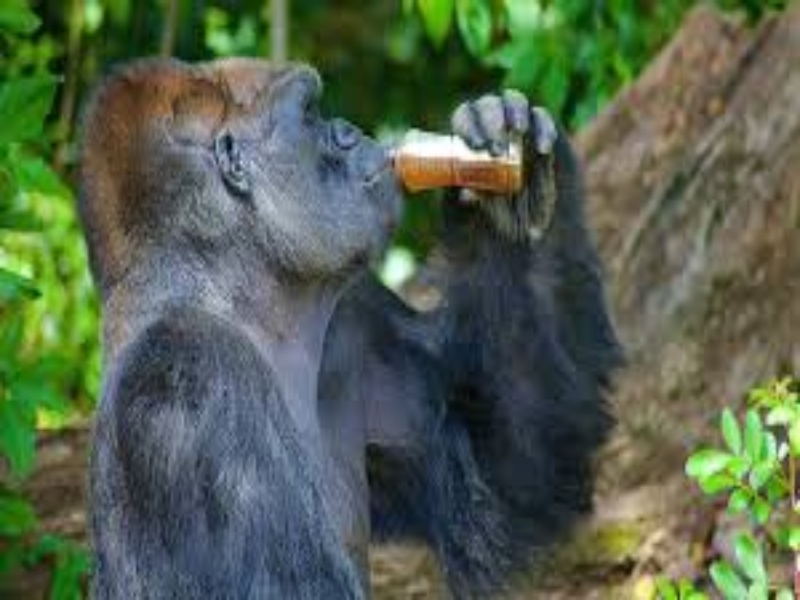monkey: (59, 48, 626, 596)
